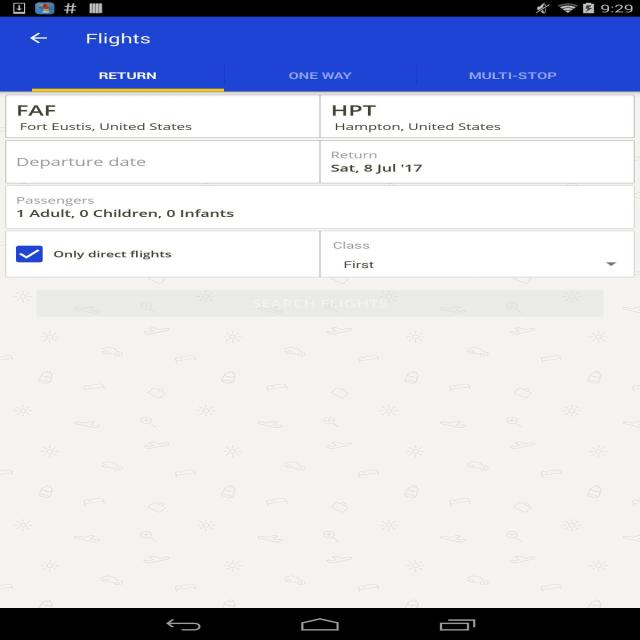button: (38, 289, 606, 318), (321, 234, 627, 278), (35, 66, 223, 90), (439, 64, 599, 92), (243, 65, 415, 91), (21, 29, 57, 50), (13, 244, 47, 265)
field: (2, 190, 632, 226), (324, 96, 635, 136), (319, 143, 636, 182), (6, 98, 318, 136), (9, 143, 317, 181)
heading: (71, 31, 165, 50)
label: (16, 154, 150, 171), (13, 194, 98, 208), (322, 148, 386, 160), (328, 238, 376, 251)
text: (14, 100, 198, 134), (329, 99, 503, 133), (13, 208, 236, 219), (328, 162, 424, 175), (336, 255, 376, 273)
